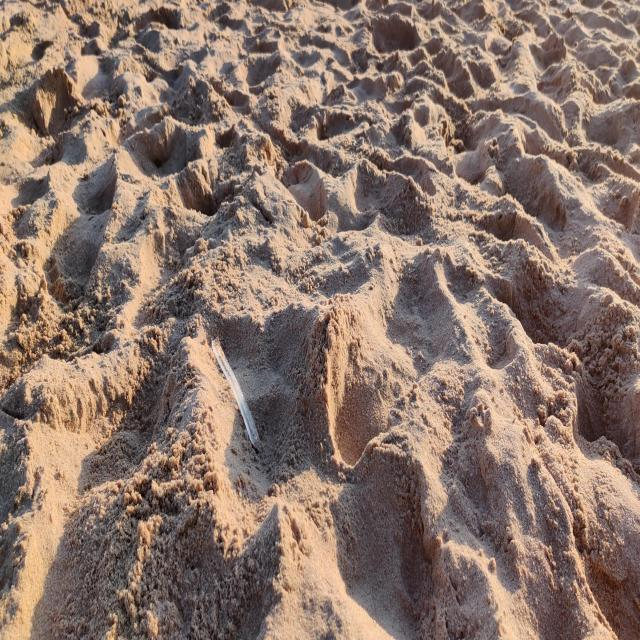Plastic film: (212, 336, 259, 447)
